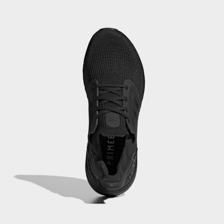Hand: (47, 7, 182, 210)
